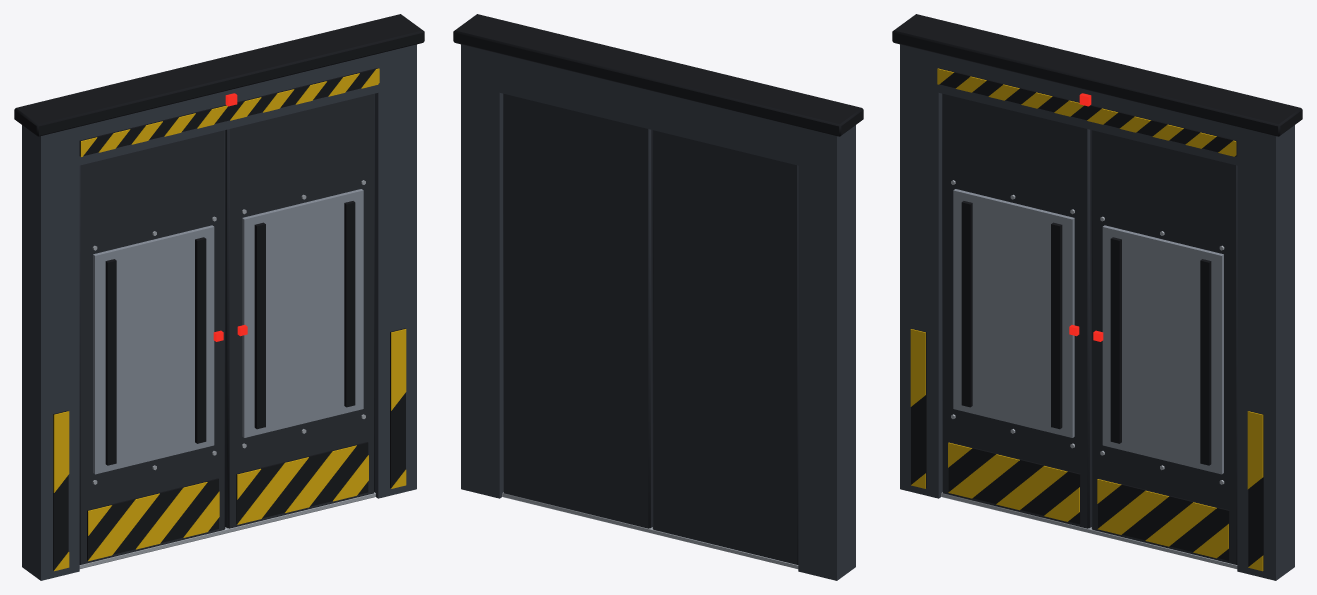
The model's file is door_blast.glb.
The picture shows the model from 3 angles, left to right: view 1: azimuth 30°, elevation 25°; view 2: azimuth 150°, elevation 25°; view 3: azimuth 330°, elevation 25°; orthographic projection.
Parts seen in each view (by area): view 1: body, leaf_r, leaf_l; view 2: body, leaf_r, leaf_l; view 3: body, leaf_l, leaf_r.
Part boxes in pixels (bbox=[...]): body: bbox=[14, 14, 424, 580]; leaf_r: bbox=[225, 93, 374, 528]; leaf_l: bbox=[79, 130, 225, 564]; body: bbox=[453, 14, 863, 580]; leaf_r: bbox=[503, 93, 652, 528]; leaf_l: bbox=[652, 130, 798, 564]; body: bbox=[892, 14, 1302, 580]; leaf_l: bbox=[942, 93, 1091, 528]; leaf_r: bbox=[1091, 130, 1237, 564].
Size of the model in its own units: 2.6 by 2.94 by 0.295.
